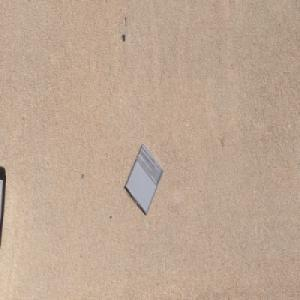PlasticPart: (124, 141, 165, 216)
